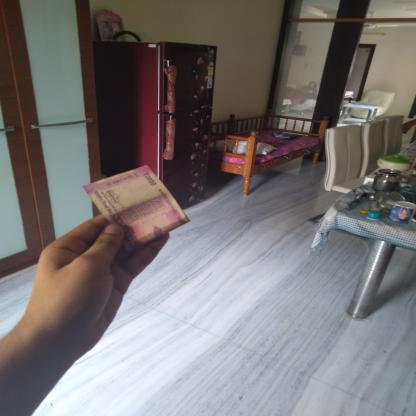New2000Back: (87, 164, 185, 242)
